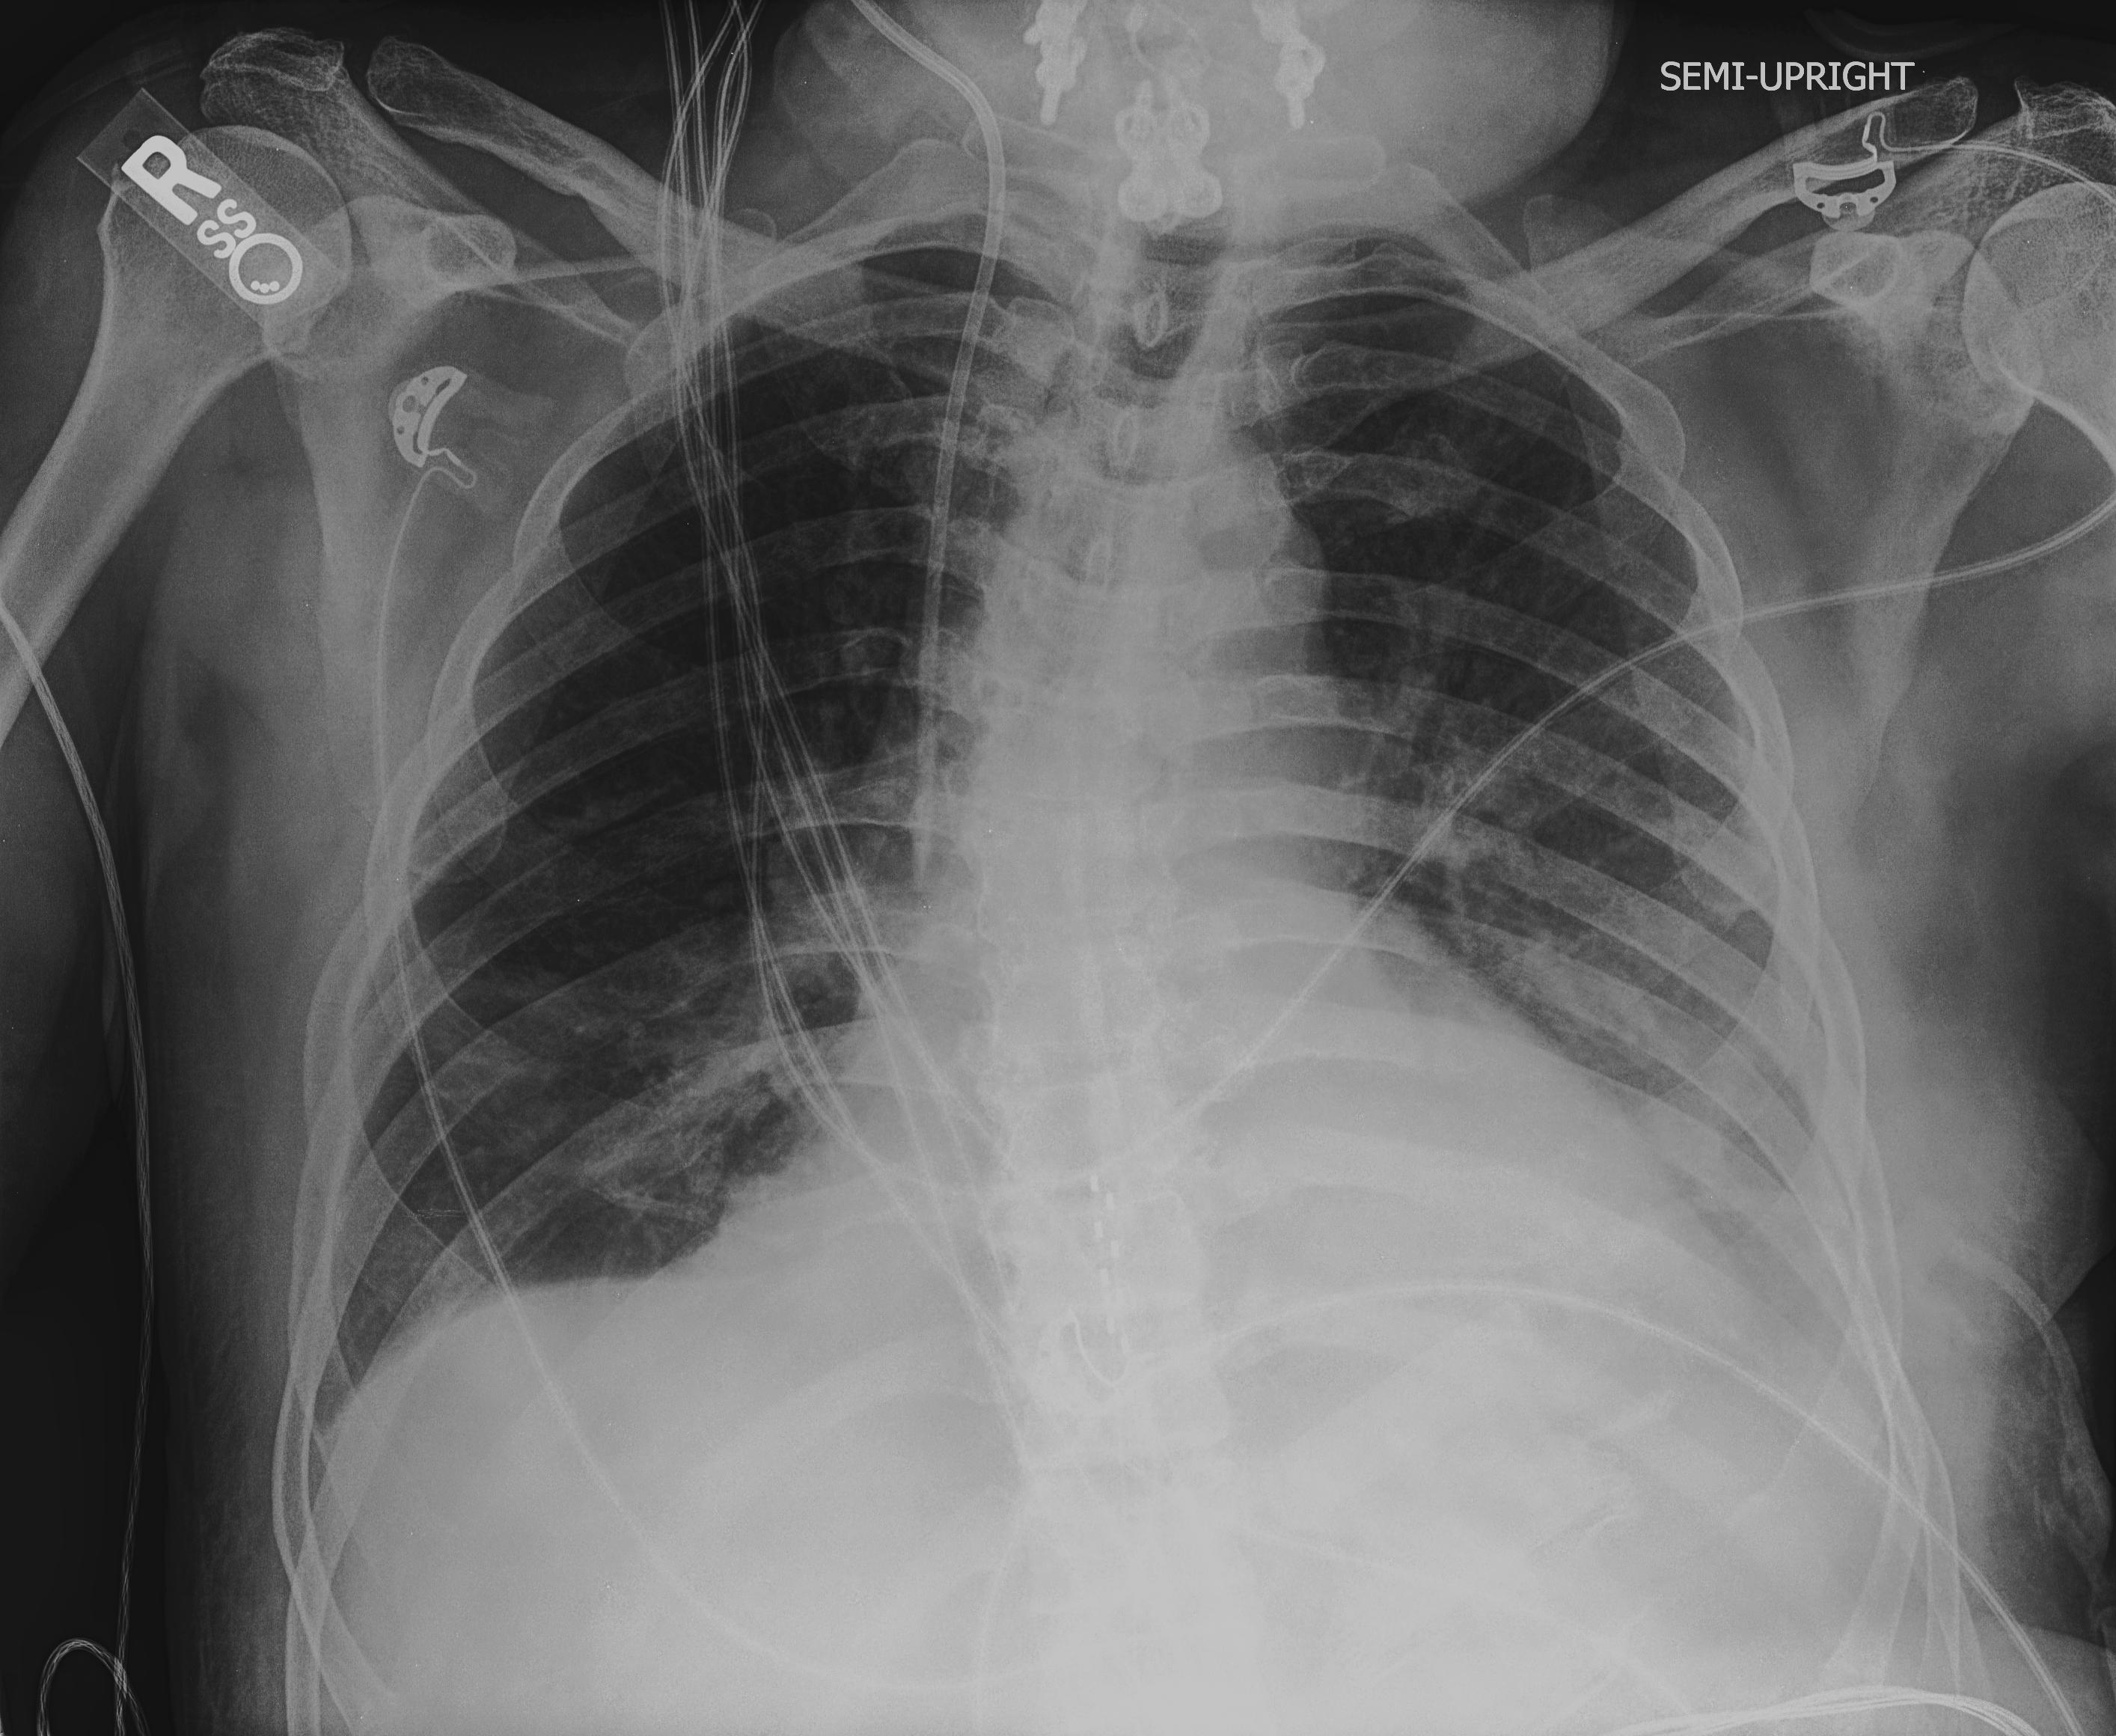Pleural Effusion: (1446, 1168, 1949, 1527)
